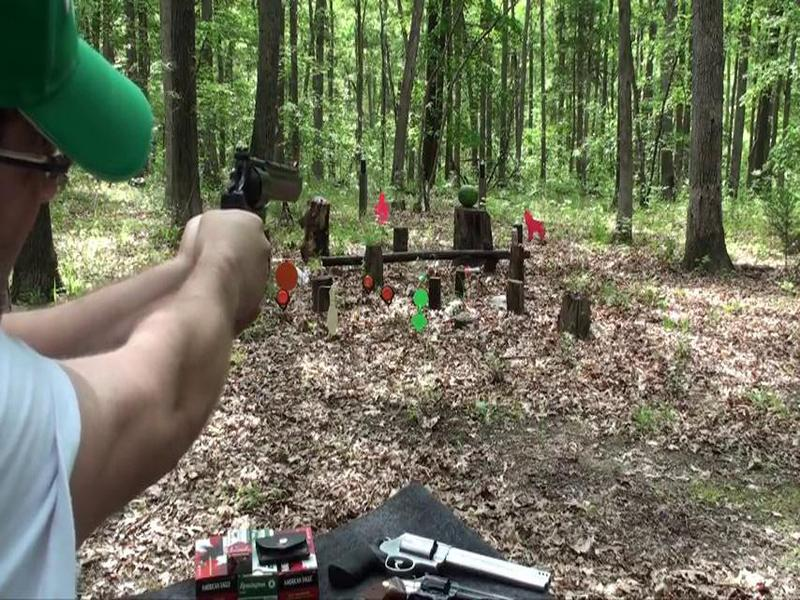Revolver: (215, 137, 314, 251)
